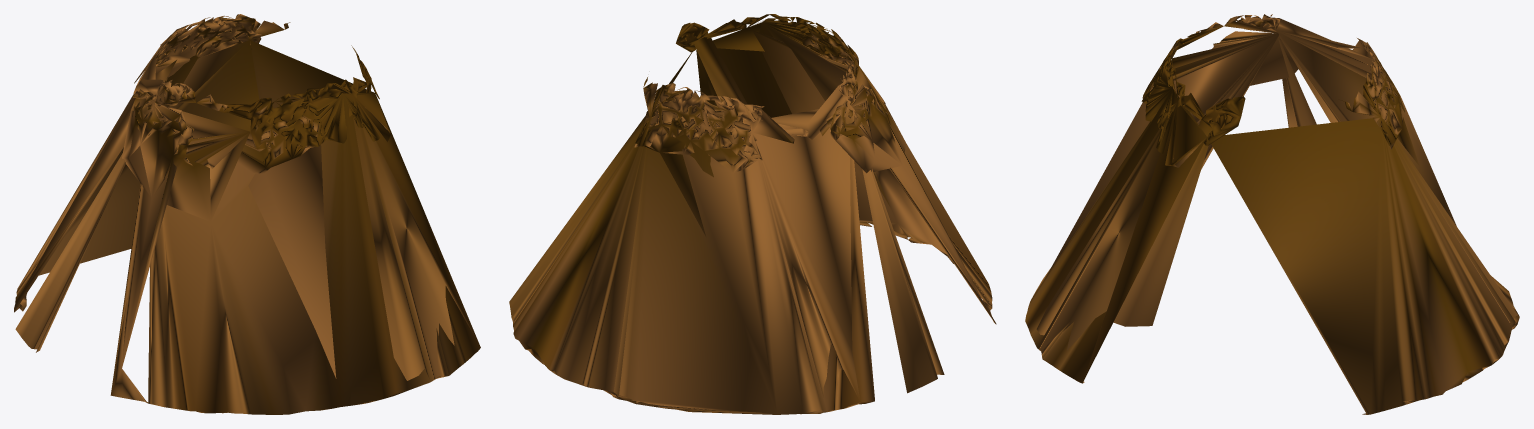
The model's file is gen3d-termite-hill-lod0.glb.
The picture shows the model from 3 angles, left to right: view 1: azimuth 30°, elevation 25°; view 2: azimuth 150°, elevation 25°; view 3: azimuth 270°, elevation 25°; orthographic projection.
Visible parts, largest first — view 1: part_0; view 2: part_0; view 3: part_0.
Part boxes in pixels (x1=…): part_0: x1=14, y1=14, x2=480, y2=414; part_0: x1=509, y1=14, x2=996, y2=414; part_0: x1=1025, y1=14, x2=1519, y2=414.
Bounding box in the file's own units: 1.61 × 0.9985 × 1.69.
